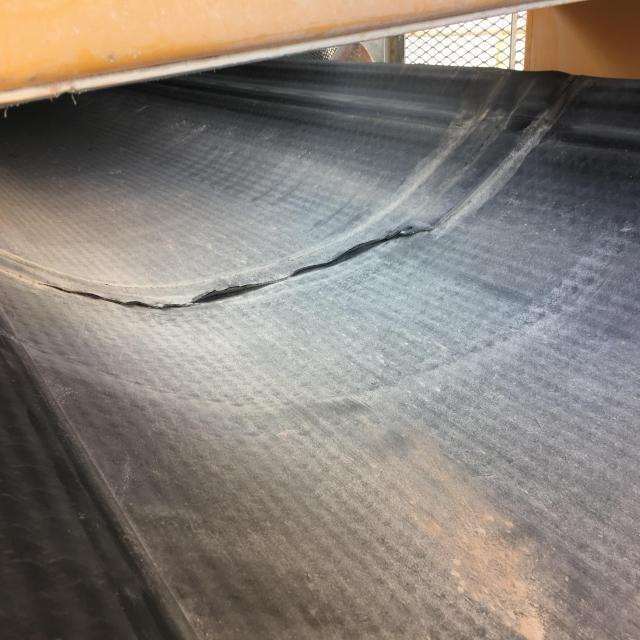Tear: (37, 218, 441, 316)
